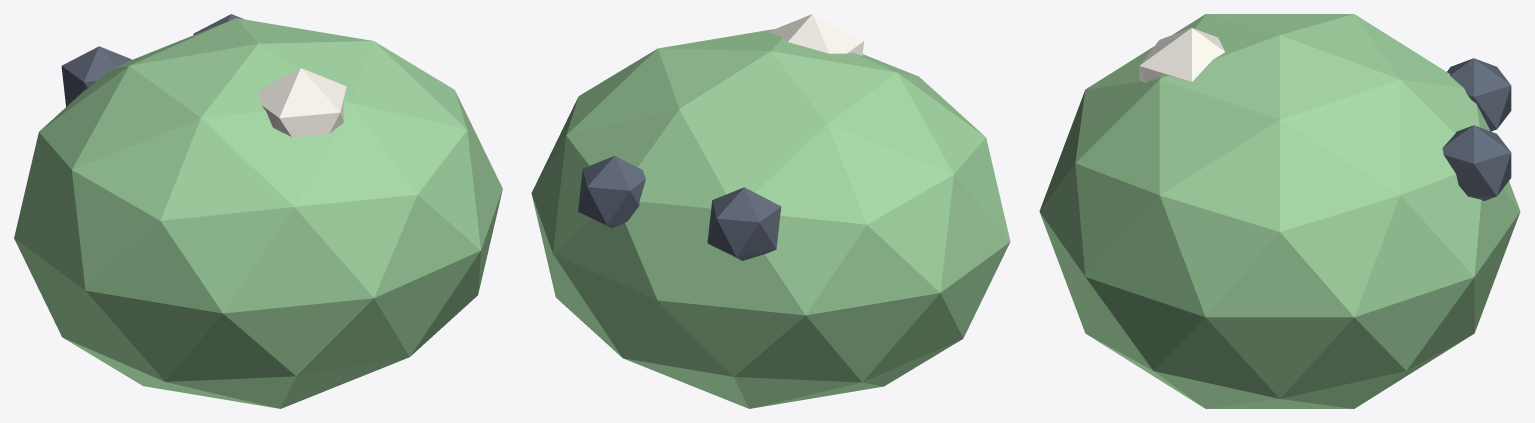
Rendered from slime.glb.
3 views of the same model, side by side, from view 1: azimuth 30°, elevation 25°; view 2: azimuth 150°, elevation 25°; view 3: azimuth 270°, elevation 25° (orthographic). The views are drawn at different scales.
Visible parts, largest first — view 1: slime; view 2: slime; view 3: slime.
Boxes of the visible parts, x1,y1,x2,y2 form: slime: (14, 14, 502, 408); slime: (531, 14, 1010, 408); slime: (1039, 14, 1520, 408).
Size of the model in its own units: 0.5687 by 0.451 by 0.546.
